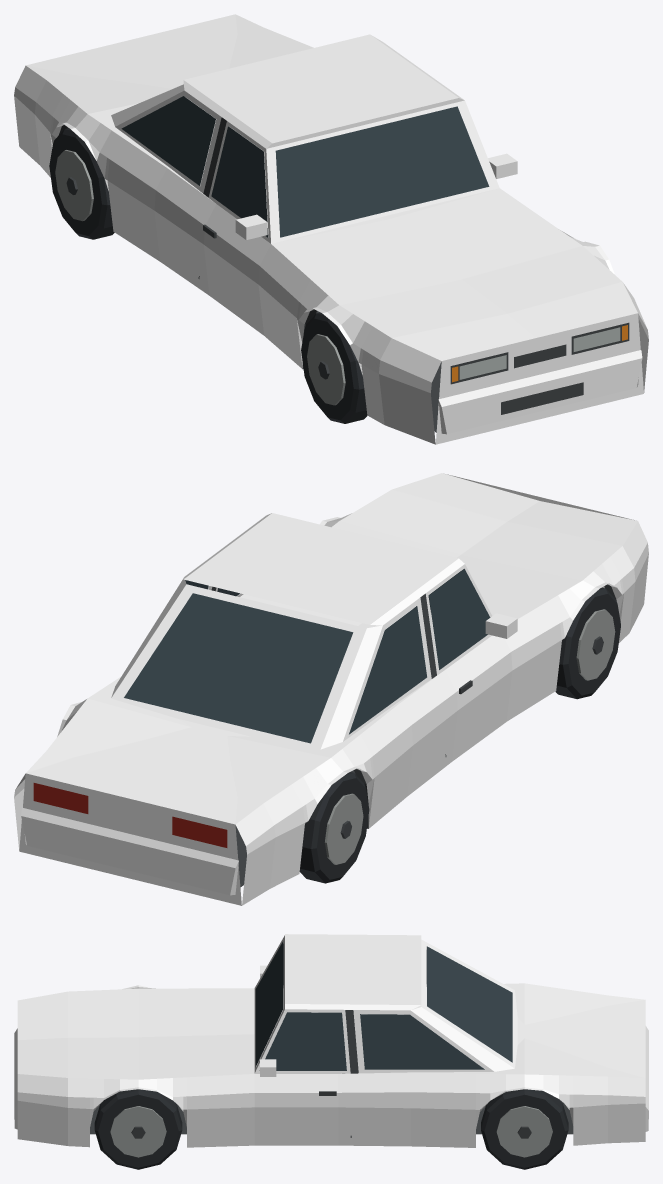
The model's file is sanga_tsukikage_s_99.glb.
3 views of the same model, one above another, from view 1: azimuth 30°, elevation 25°; view 2: azimuth 150°, elevation 25°; view 3: azimuth 270°, elevation 25° (orthographic). The views are drawn at different scales.
Parts seen in each view (by area): view 1: sanga_tsukikage_s_99; view 2: sanga_tsukikage_s_99; view 3: sanga_tsukikage_s_99.
Boxes of the visible parts, x1,y1,x2,y2 form: sanga_tsukikage_s_99: [14, 14, 648, 444]; sanga_tsukikage_s_99: [14, 473, 648, 905]; sanga_tsukikage_s_99: [14, 934, 648, 1169].
Size of the model in its own units: 1.82 by 1.24 by 4.7.
Materials: 8 (1 with a texture image).
